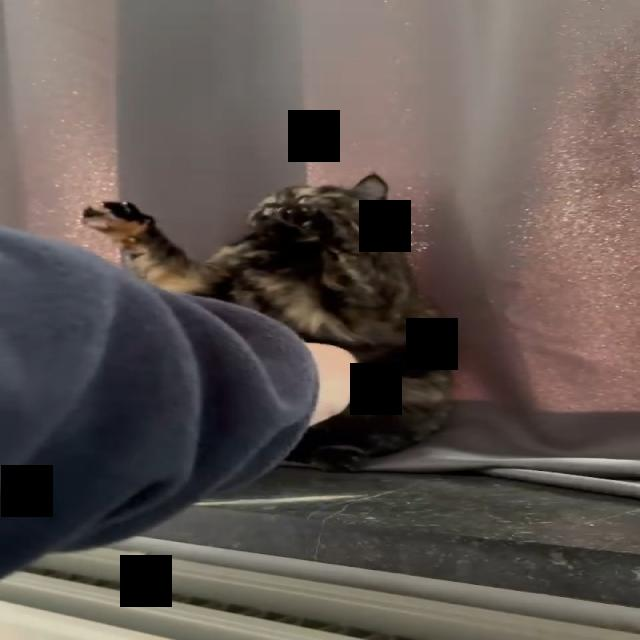authorized: (80, 171, 455, 472)
